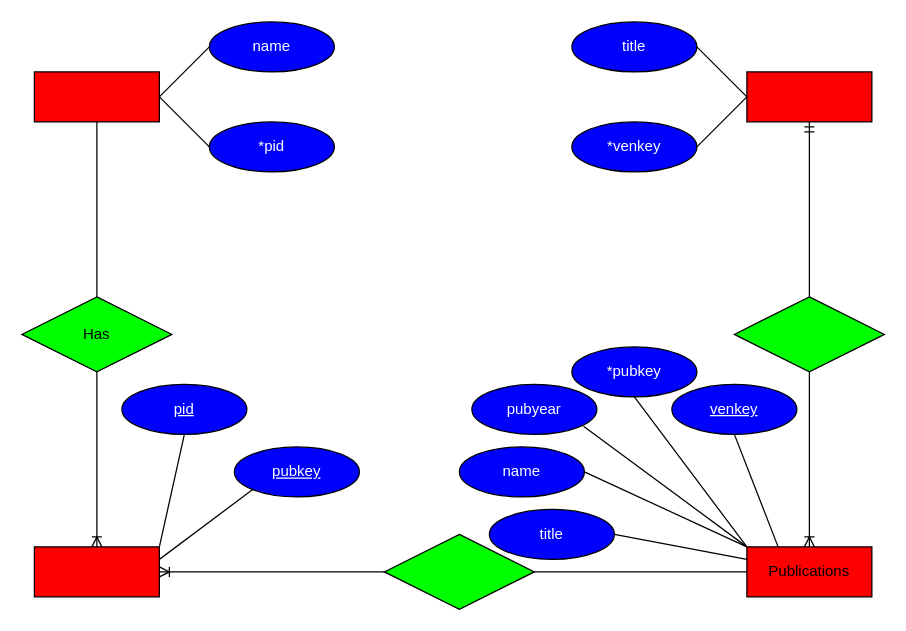
This 906x631 diagram has some shape labels left out. The centre of each missing label's shape, as x and y in pixels:
"Links" goes at (96,571).
"Persons" goes at (96,96).
"Published in" goes at (808,334).
"To" goes at (458,571).
"Venues" goes at (809,96).
